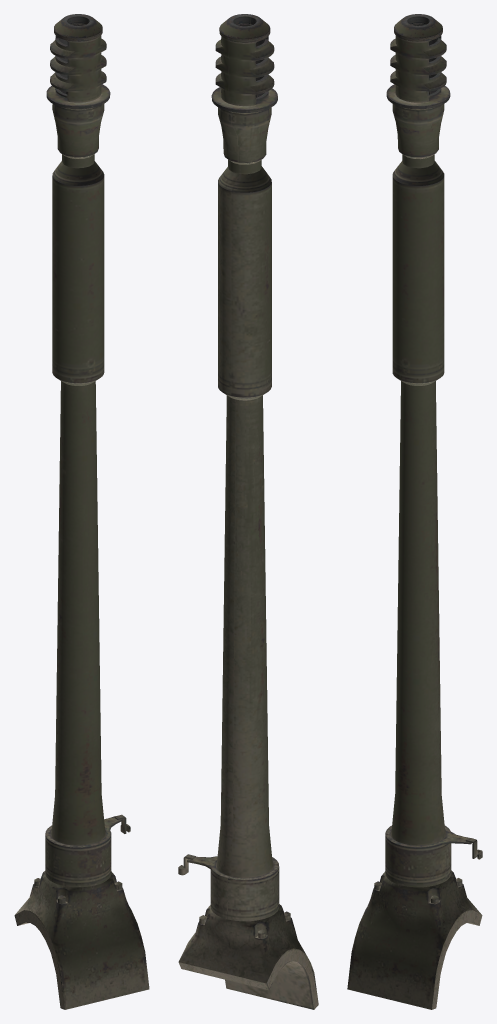
The model's file is Gun_01.glb.
The picture shows the model from 3 angles, left to right: view 1: azimuth 30°, elevation 25°; view 2: azimuth 150°, elevation 25°; view 3: azimuth 330°, elevation 25°; orthographic projection. The views are drawn at different scales.
Visible parts, largest first — view 1: set_0_group_0; view 2: set_0_group_0; view 3: set_0_group_0.
Part boxes in pixels (box(x1,y1,x2,y2)): set_0_group_0: box(14, 14, 149, 1009); set_0_group_0: box(178, 14, 318, 1009); set_0_group_0: box(347, 14, 482, 1009).
Size of the model in its own units: 0.5083 by 4.72 by 0.4513.
1 material, 1 textured.
